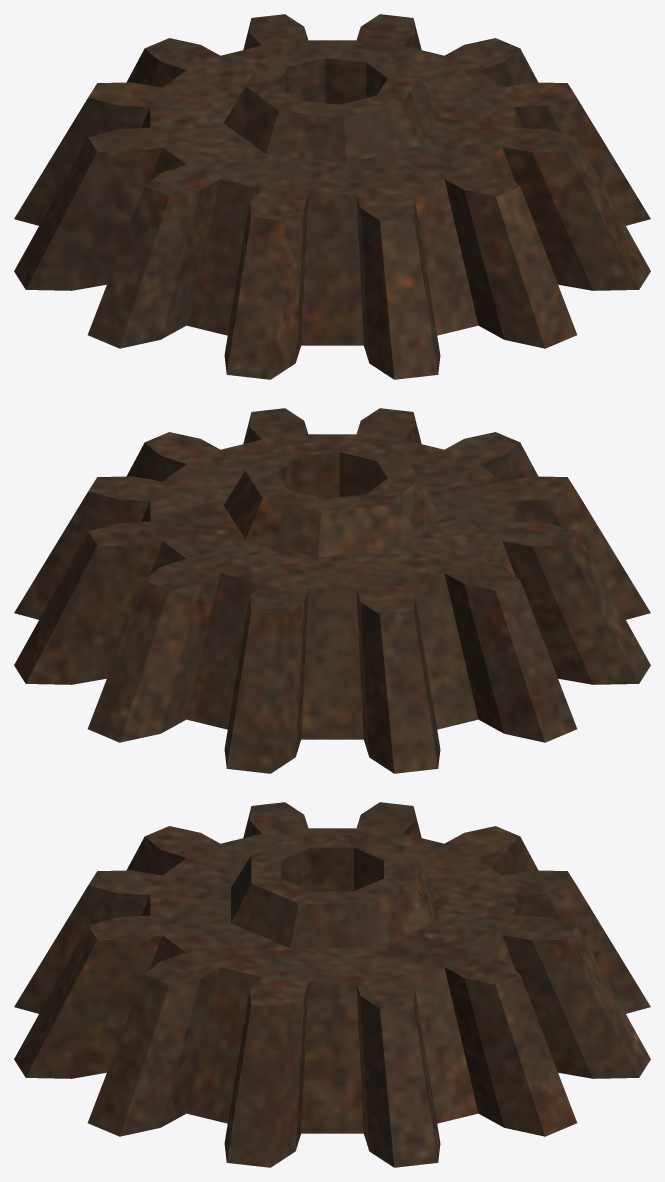
The model's file is gear_mx_1.obj.
3 renders of one model, top to bottom at view 1: azimuth 30°, elevation 25°; view 2: azimuth 150°, elevation 25°; view 3: azimuth 270°, elevation 25°, orthographic.
Parts seen in each view (by area): view 1: gear_mx_1; view 2: gear_mx_1; view 3: gear_mx_1.
Part boxes in pixels (left/top/right/bottom): gear_mx_1: left=14, top=14, right=650, bottom=379; gear_mx_1: left=14, top=408, right=650, bottom=773; gear_mx_1: left=14, top=802, right=650, bottom=1167.
Size of the model in its own units: 0.289 by 0.1 by 0.289.
